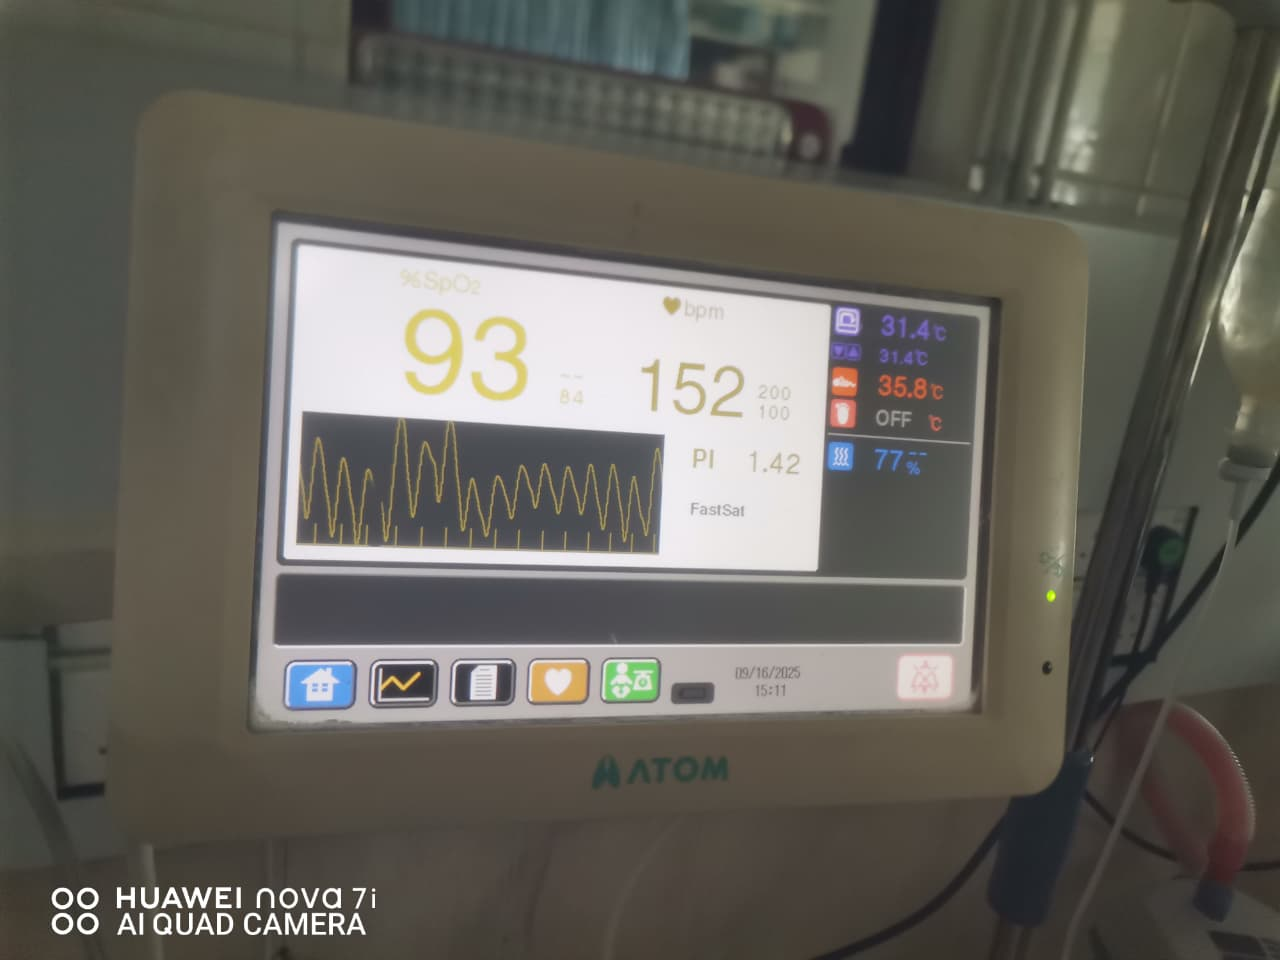heart_rate_value: (633, 345, 759, 432)
humidity_value: (865, 433, 908, 480)
skin_temp_value: (865, 363, 929, 405)
spo2_value: (397, 302, 536, 413)
